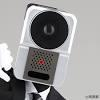no more kid: (13, 0, 77, 87)
